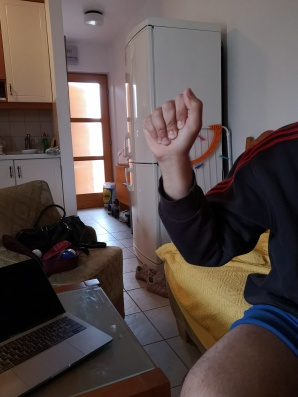A: (142, 84, 206, 164)
